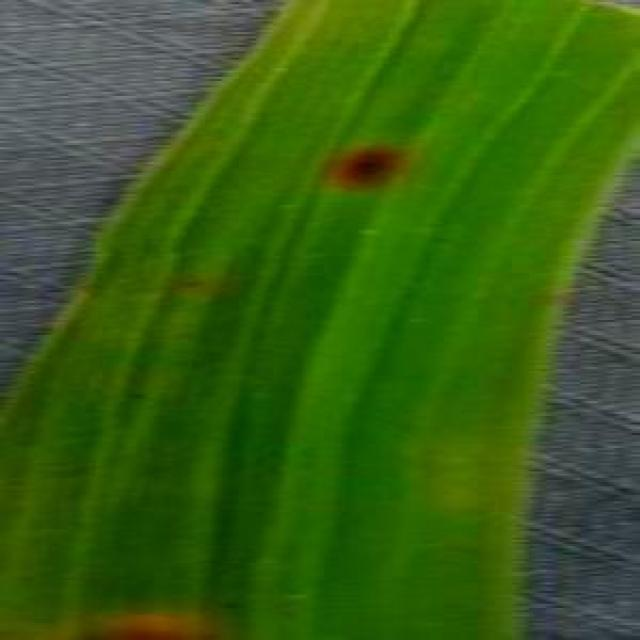Rice_Brownspot: (305, 128, 414, 198), (173, 264, 207, 294), (118, 380, 152, 403), (216, 592, 243, 614), (162, 241, 192, 258)
